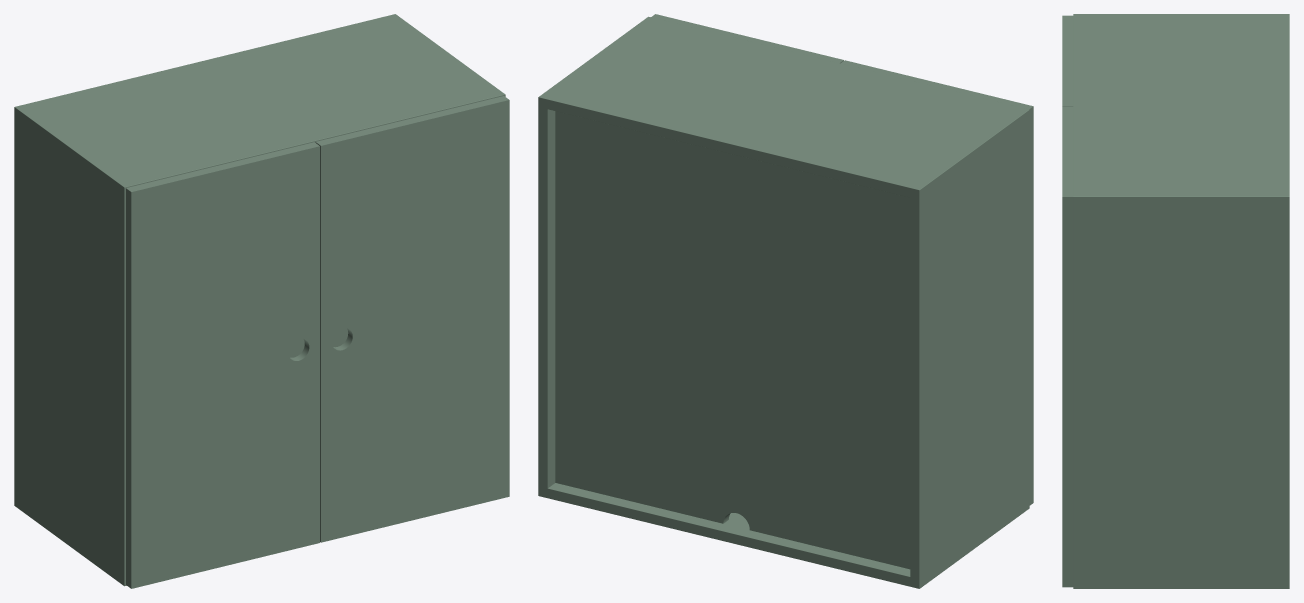
File: MOD_2X2_DD_B_AP_VA.glb
3 renders of one model, left to right at view 1: azimuth 30°, elevation 25°; view 2: azimuth 150°, elevation 25°; view 3: azimuth 270°, elevation 25°, orthographic.
Size of the model in its own units: 720 by 720 by 378.
